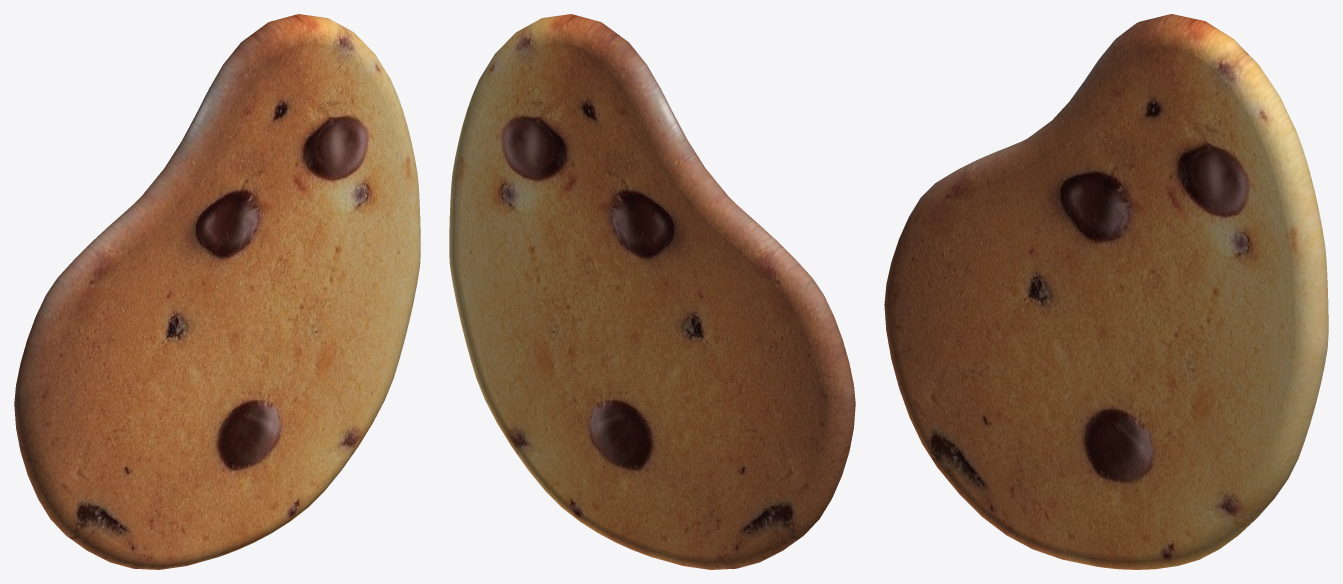
Rendered from Gocciola.fbx.
The picture shows the model from 3 angles, left to right: view 1: azimuth 30°, elevation 25°; view 2: azimuth 150°, elevation 25°; view 3: azimuth 330°, elevation 25°; orthographic projection. The views are drawn at different scales.
Parts seen in each view (by area): view 1: BezierCurve; view 2: BezierCurve; view 3: BezierCurve.
Boxes of the visible parts, left/top/right/bottom form: BezierCurve: left=14, top=14, right=420, bottom=569; BezierCurve: left=449, top=14, right=855, bottom=569; BezierCurve: left=884, top=14, right=1328, bottom=569.
Bounding box in the file's own units: 325 × 403 × 28.56.
